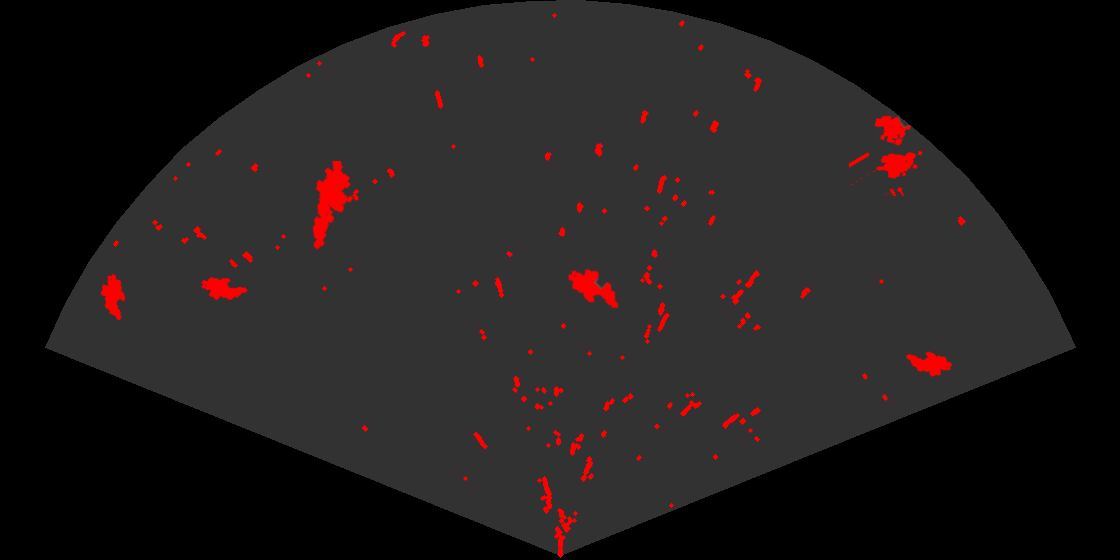AUV: (566, 267, 620, 310), (904, 350, 954, 378), (99, 272, 127, 322), (200, 276, 249, 301)
cage: (849, 114, 924, 196)
frogman: (311, 161, 355, 251)
